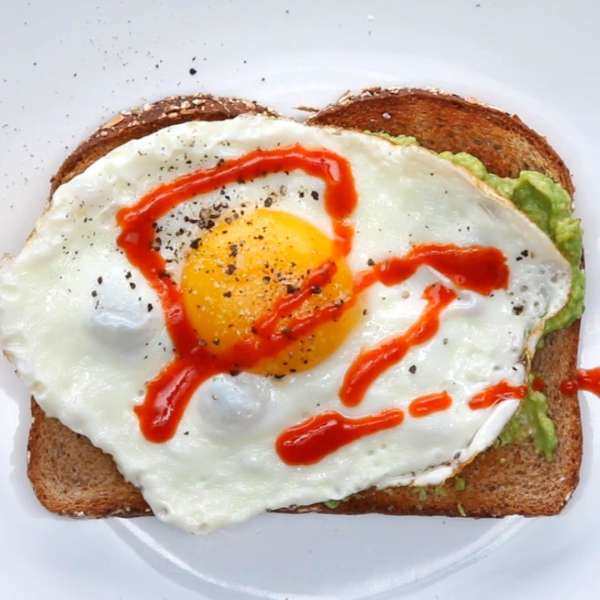fried egg: (68, 160, 447, 471)
slice of bread: (348, 54, 595, 192), (474, 354, 598, 547)
